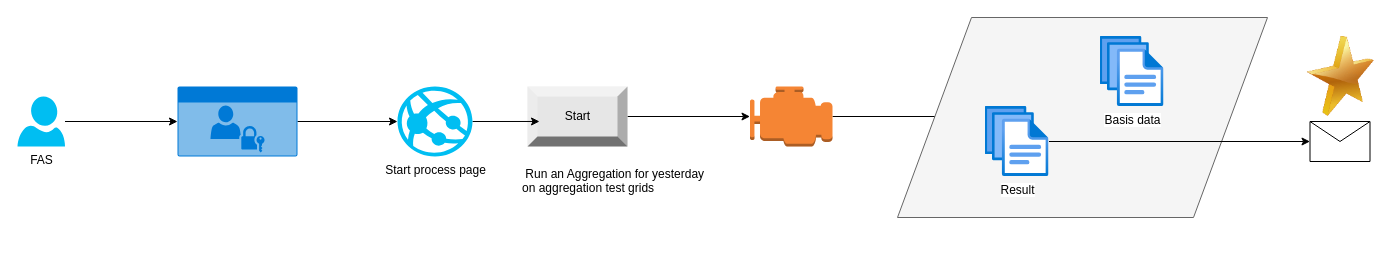
The diagram is 1397 pixels wide and 254 high, and some of its shapes have lost their labels. Here are the shapes that lost their labels. From the top down, the centre of each, then its label:
At [237,121]: "Login".
At [790,116]: "Calculation".
At [1339,141]: "RSM-014".
